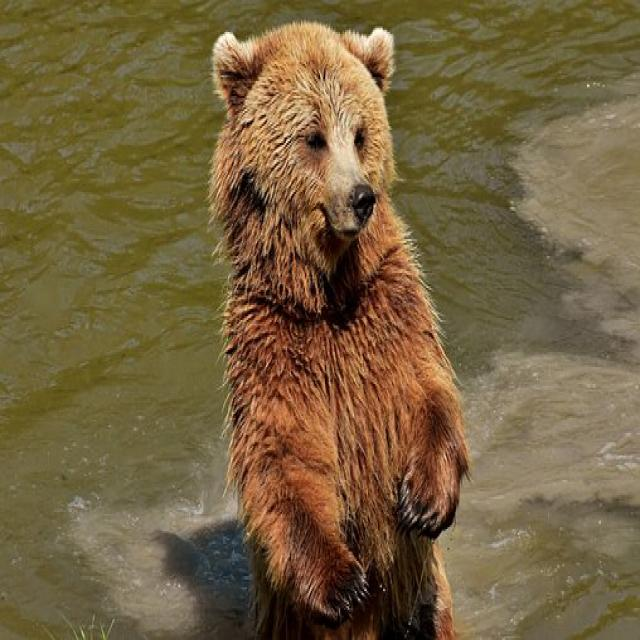Bear: (208, 23, 471, 640)
